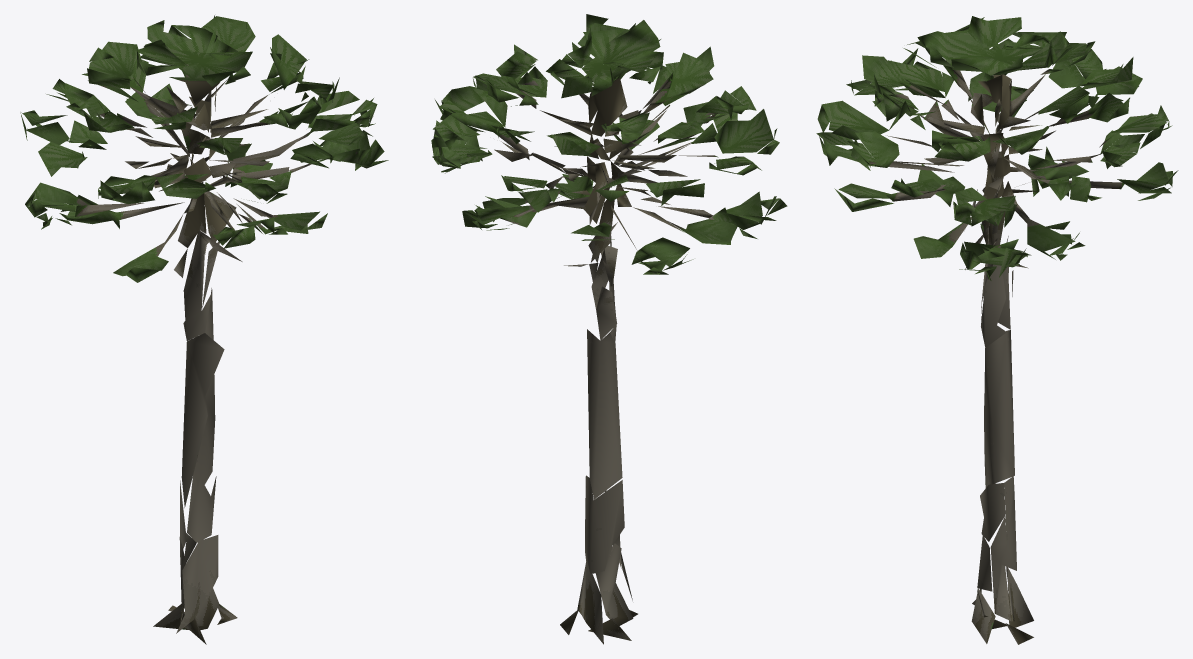
File: araucaria_adulta.glb
The picture shows the model from 3 angles, left to right: view 1: azimuth 30°, elevation 25°; view 2: azimuth 150°, elevation 25°; view 3: azimuth 270°, elevation 25°; orthographic projection. The views are drawn at different scales.
Parts seen in each view (by area): view 1: tripo_node_190854b6-ce2d-4594-a666-ab3cbf2ea408; view 2: tripo_node_190854b6-ce2d-4594-a666-ab3cbf2ea408; view 3: tripo_node_190854b6-ce2d-4594-a666-ab3cbf2ea408.
Part boxes in pixels (x1,y1,x2,y2): tripo_node_190854b6-ce2d-4594-a666-ab3cbf2ea408: [20, 15, 388, 644]; tripo_node_190854b6-ce2d-4594-a666-ab3cbf2ea408: [431, 14, 787, 644]; tripo_node_190854b6-ce2d-4594-a666-ab3cbf2ea408: [816, 16, 1178, 644].
Size of the model in its own units: 0.6331 by 1 by 0.5541.
1 material, 1 textured.
